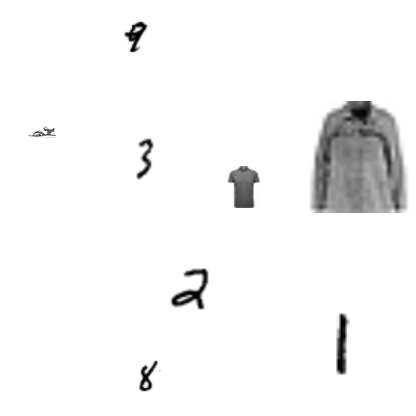1: (298, 302, 382, 386)
2: (164, 261, 220, 317)
3: (117, 129, 173, 185)
8: (126, 355, 168, 397)
9: (114, 13, 156, 55)
Coat: (303, 101, 415, 213)
Sandal: (28, 118, 56, 146)
T-shirt/top: (222, 166, 264, 208)
